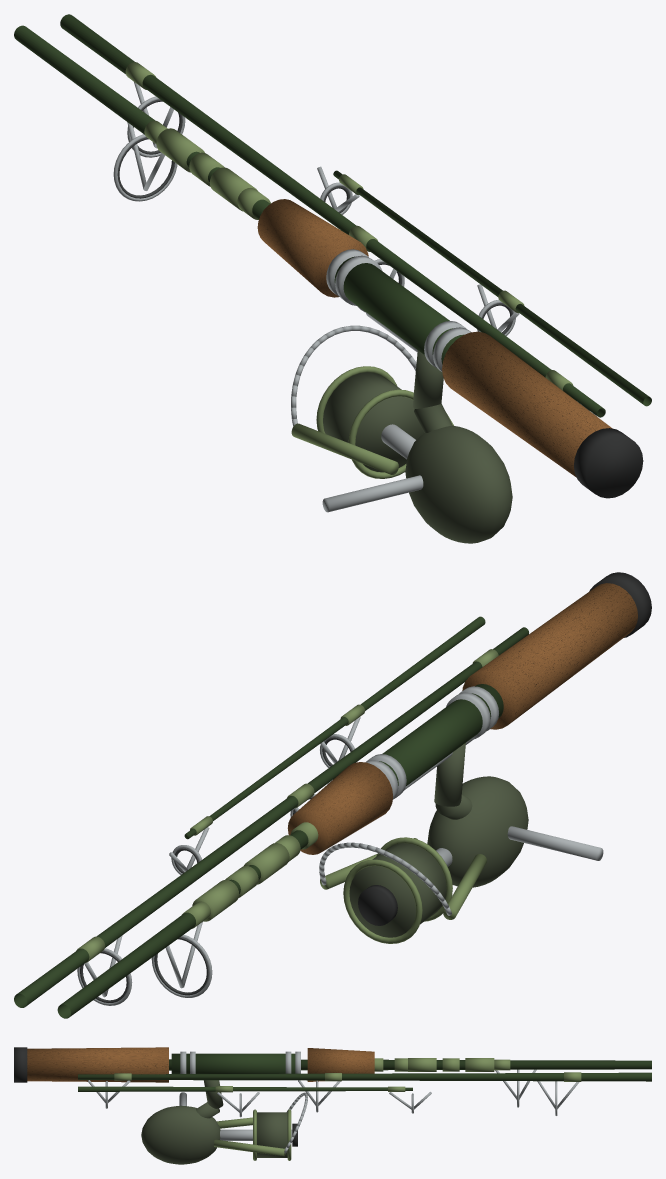
The model's file is willow_feeder_folded.glb.
3 views of the same model, one above another, from view 1: azimuth 30°, elevation 25°; view 2: azimuth 150°, elevation 25°; view 3: azimuth 270°, elevation 25° (orthographic). The views are drawn at different scales.
Parts seen in each view (by area): view 1: Folded rod; view 2: Folded rod; view 3: Folded rod.
Boxes of the visible parts, x1=… form: Folded rod: x1=14, y1=14, x2=651, y2=543; Folded rod: x1=14, y1=572, x2=651, y2=1018; Folded rod: x1=14, y1=1047, x2=651, y2=1164.
Bounding box in the file's own units: 0.1577 × 0.1315 × 0.667.
8 materials, 1 textured.
